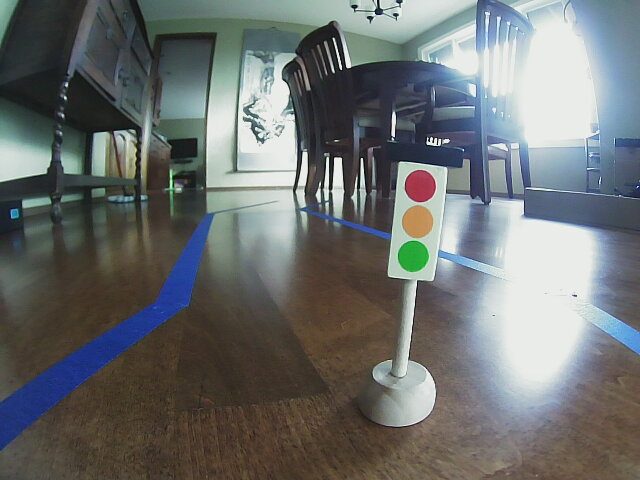TrafficLight: (393, 157, 439, 281)
